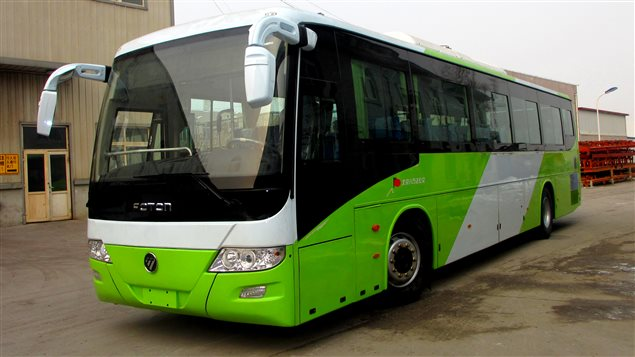bus: (87, 8, 585, 328)
